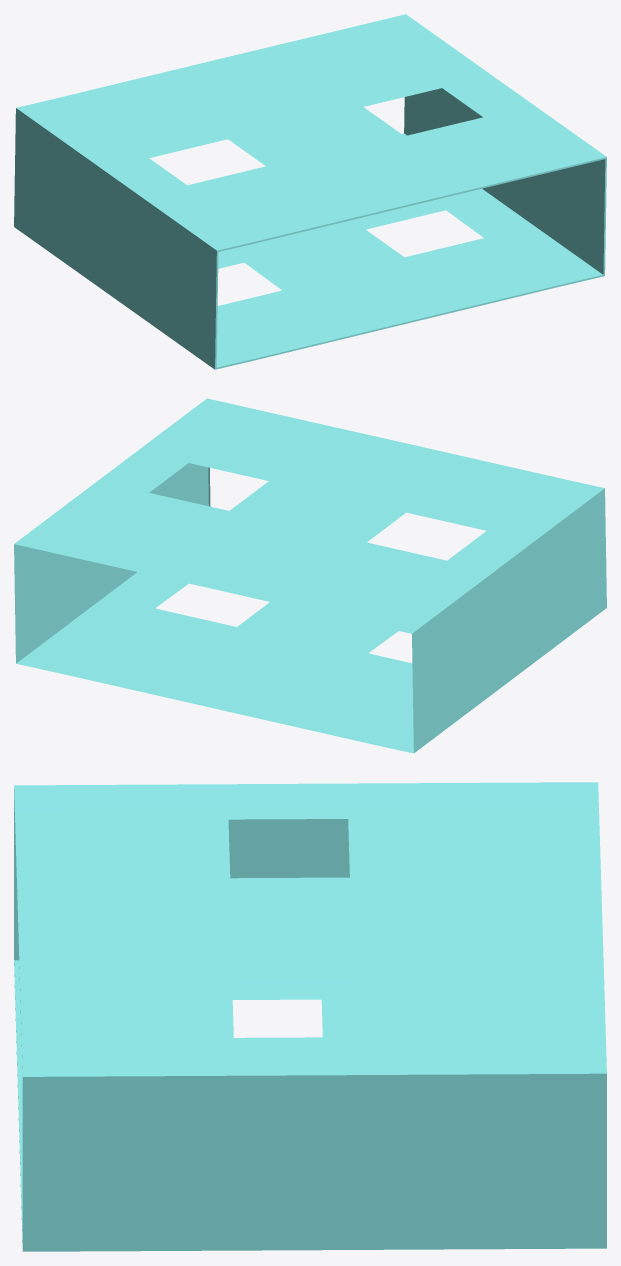
Rendered from original-11.obj.
3 renders of one model, top to bottom at view 1: azimuth 30°, elevation 25°; view 2: azimuth 150°, elevation 25°; view 3: azimuth 270°, elevation 25°, orthographic. The views are drawn at different scales.
Visible parts, largest first — view 1: #ID35; view 2: #ID35; view 3: #ID35.
Part boxes in pixels (<box>): #ID35: <box>14,14,606,369</box>; #ID35: <box>14,398,606,753</box>; #ID35: <box>14,782,606,1251</box>.
Size of the model in its own units: 0.2931 by 0.0863 by 0.2536.
